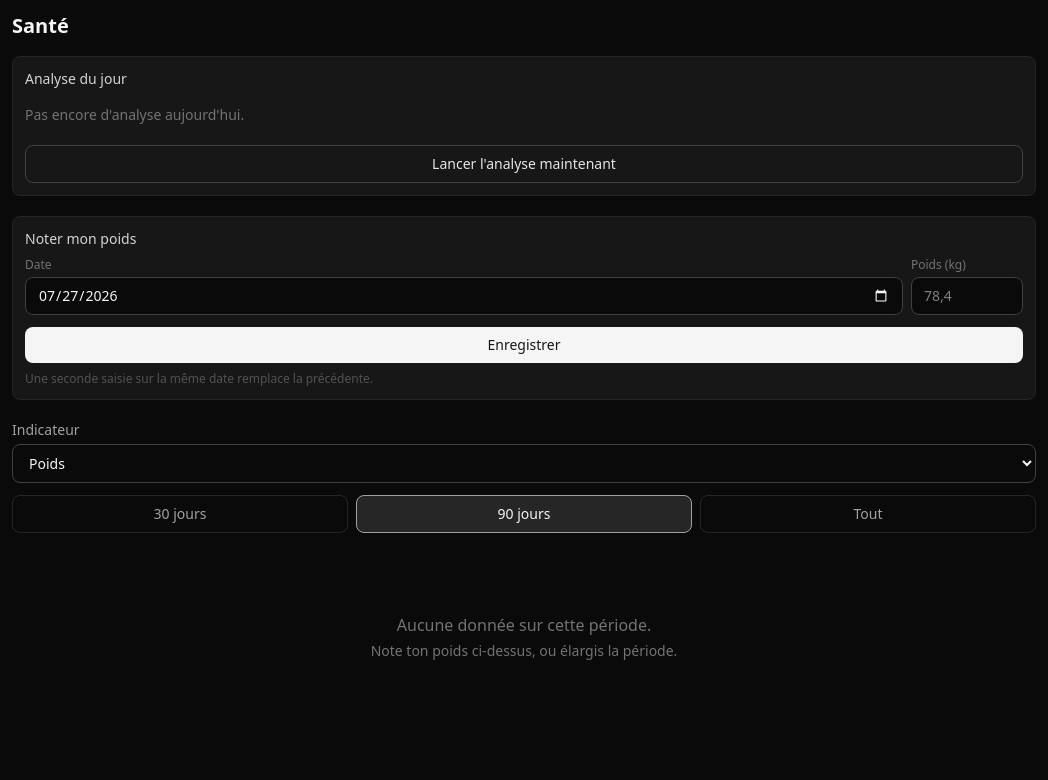
Test: Health — analyse du jour › aucune analyse encore : message dédié, le bouton la déclenche
This screenshot has width=1048, height=780.
expect the text "Pas encore d'analyse aujourd'hui." is shown: met, box [25,105,244,124]
Click the button "Lancer l'analyse maintenant".
click(524, 164)  # box [25,145,1023,183]
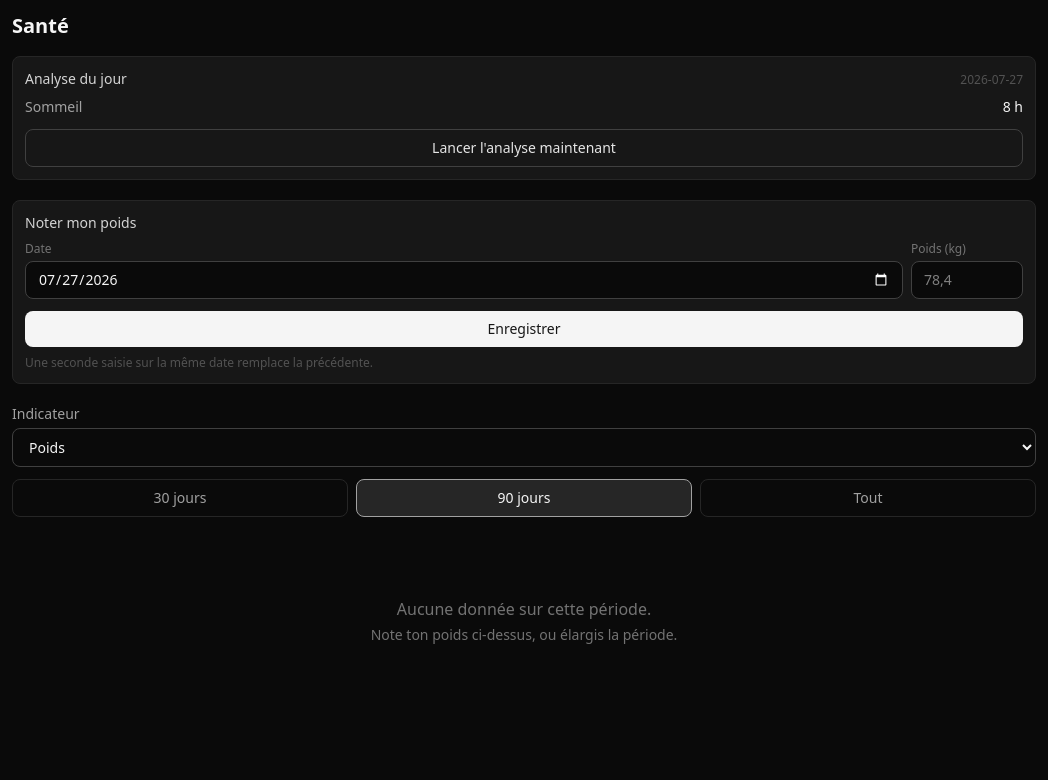
expect the text "Sommeil" is shown: met, box [25,97,82,117]
